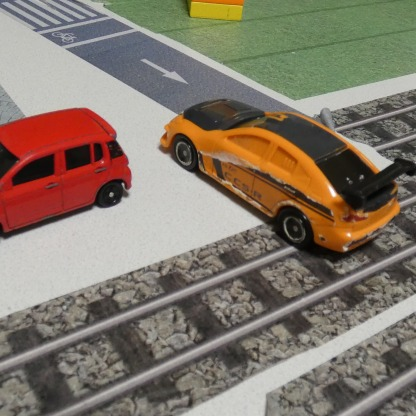car: (157, 97, 401, 268), (0, 106, 137, 243)
